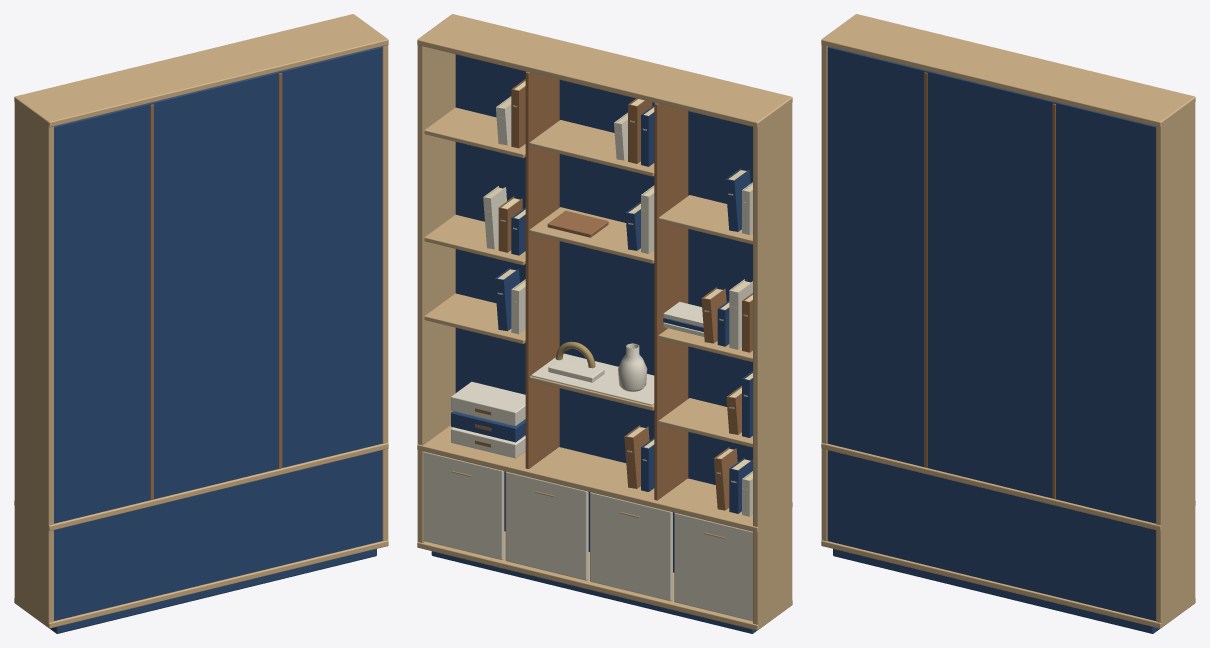
Rendered from cabinet.glb.
The picture shows the model from 3 angles, left to right: view 1: azimuth 30°, elevation 25°; view 2: azimuth 150°, elevation 25°; view 3: azimuth 330°, elevation 25°; orthographic projection.
Visible parts, largest first — view 1: inset-back-panel, outer-stile--1.85, continuous-rail-5.43, outer-stile-1.85, recessed-plinth, continuous-rail-0.13, continuous-rail-1.16, open-bay-divider-0.69, open-bay-divider--0.73; view 2: inset-back-panel, outer-stile--1.85, outer-stile-1.85, continuous-rail-5.43, open-bay-divider-0.69, open-bay-divider--0.73, continuous-rail-1.16, lower-door-2, lower-door-1, lower-door-3, lower-door-0, library-books-edge (+22 smaller); view 3: inset-back-panel, outer-stile-1.85, continuous-rail-5.43, outer-stile--1.85, recessed-plinth, continuous-rail-0.13, continuous-rail-1.16, open-bay-divider-0.69, open-bay-divider--0.73.
Boxes of the visible parts, x1=… form: inset-back-panel: x1=54, y1=46, x2=382, y2=620; outer-stile--1.85: x1=14, y1=96, x2=53, y2=627; continuous-rail-5.43: x1=14, y1=14, x2=388, y2=127; outer-stile-1.85: x1=350, y1=14, x2=388, y2=541; recessed-plinth: x1=50, y1=549, x2=376, y2=633; continuous-rail-0.13: x1=14, y1=540, x2=388, y2=628; continuous-rail-1.16: x1=14, y1=443, x2=388, y2=531; open-bay-divider-0.69: x1=278, y1=73, x2=282, y2=468; open-bay-divider--0.73: x1=150, y1=104, x2=153, y2=499; inset-back-panel: x1=455, y1=54, x2=752, y2=572; outer-stile--1.85: x1=753, y1=96, x2=792, y2=629; outer-stile-1.85: x1=417, y1=14, x2=455, y2=542; continuous-rail-5.43: x1=417, y1=14, x2=792, y2=127; open-bay-divider-0.69: x1=525, y1=71, x2=559, y2=468; open-bay-divider--0.73: x1=654, y1=103, x2=688, y2=500; continuous-rail-1.16: x1=417, y1=425, x2=792, y2=532; lower-door-2: x1=505, y1=471, x2=588, y2=580; lower-door-1: x1=590, y1=492, x2=672, y2=601; lower-door-3: x1=423, y1=451, x2=504, y2=559; lower-door-0: x1=674, y1=512, x2=752, y2=621; library-books-edge: x1=498, y1=79, x2=752, y2=510; inset-back-panel: x1=827, y1=46, x2=1155, y2=620; outer-stile-1.85: x1=1156, y1=96, x2=1195, y2=627; continuous-rail-5.43: x1=821, y1=14, x2=1195, y2=127; outer-stile--1.85: x1=821, y1=14, x2=859, y2=541; recessed-plinth: x1=833, y1=549, x2=1159, y2=633; continuous-rail-0.13: x1=821, y1=540, x2=1195, y2=628; continuous-rail-1.16: x1=821, y1=443, x2=1195, y2=531; open-bay-divider-0.69: x1=1052, y1=103, x2=1055, y2=499; open-bay-divider--0.73: x1=924, y1=72, x2=927, y2=467.
Size of the model in its own units: 3.76 by 5.46 by 0.68.
